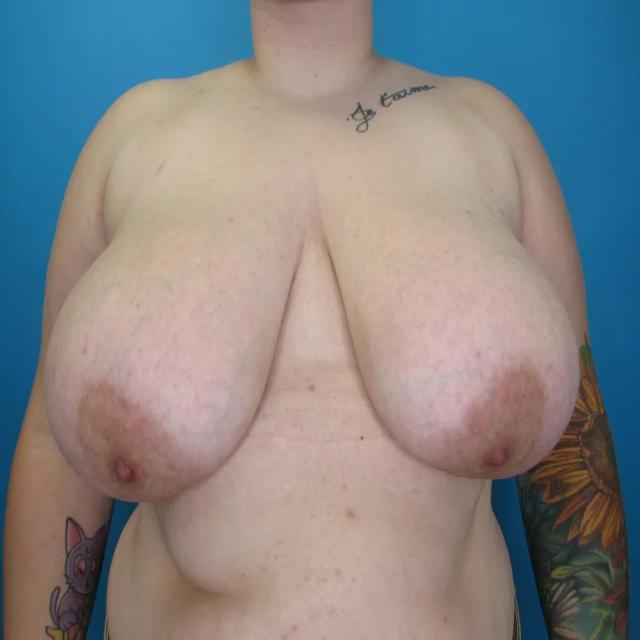Seno ileso: (38, 193, 312, 529), (315, 193, 586, 508)
